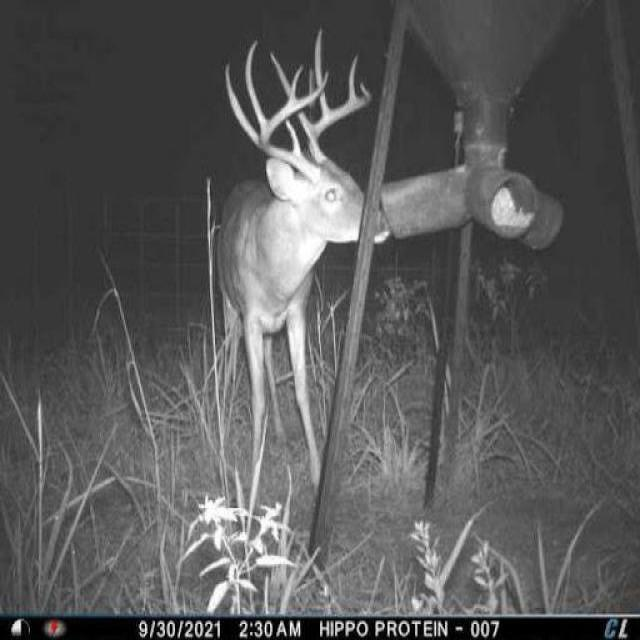deer: (208, 20, 394, 507)
